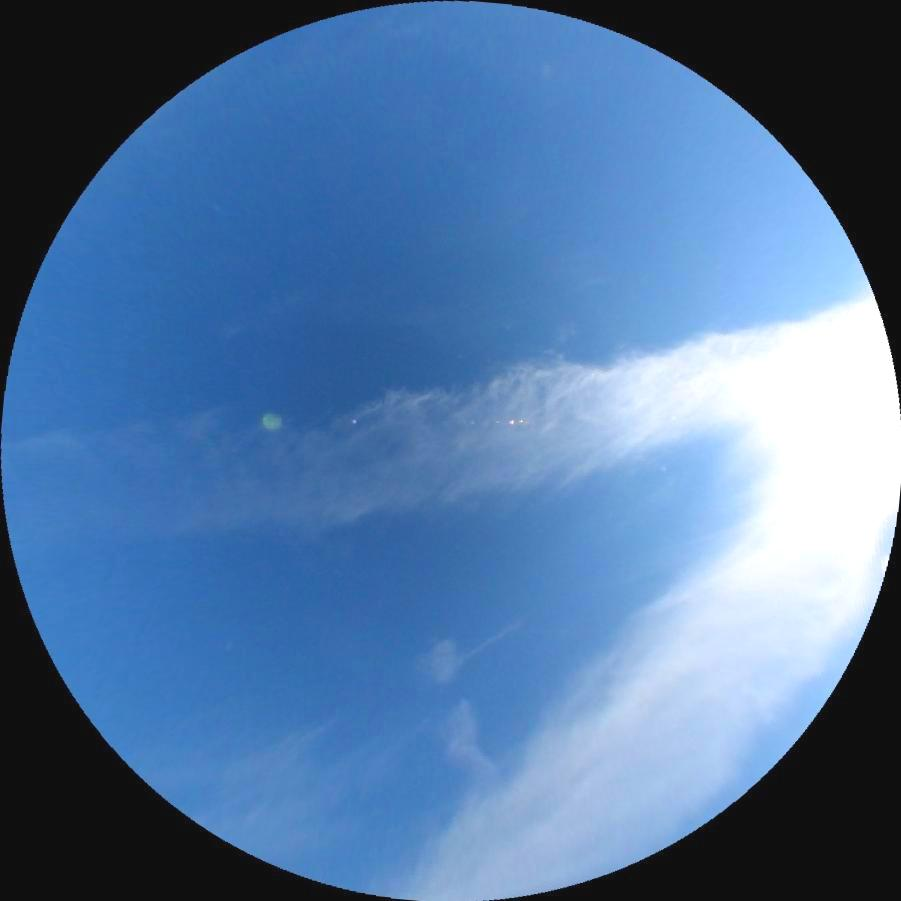contrail veryold: (0, 298, 886, 575), (406, 634, 501, 786)
unknow: (454, 614, 524, 667)
